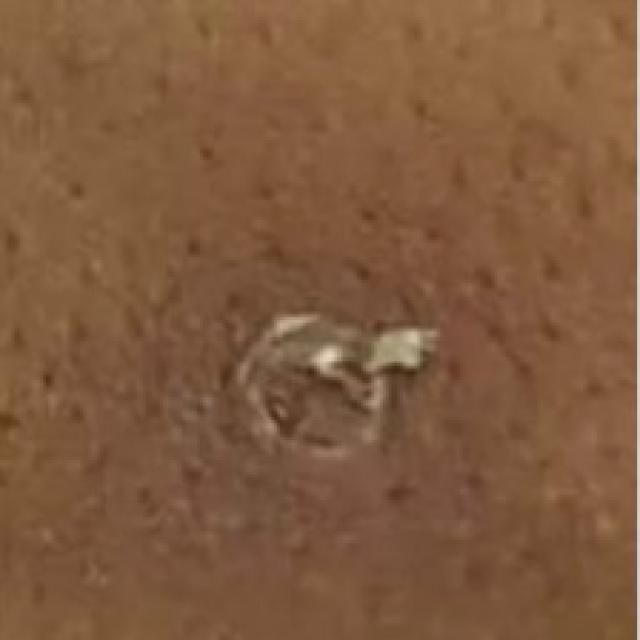Eczema: (208, 277, 420, 467)
